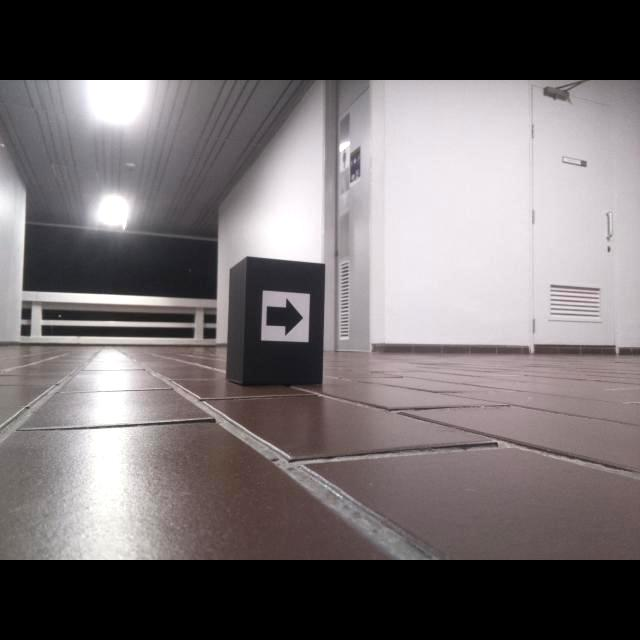RIGHT: (266, 299, 303, 337)
